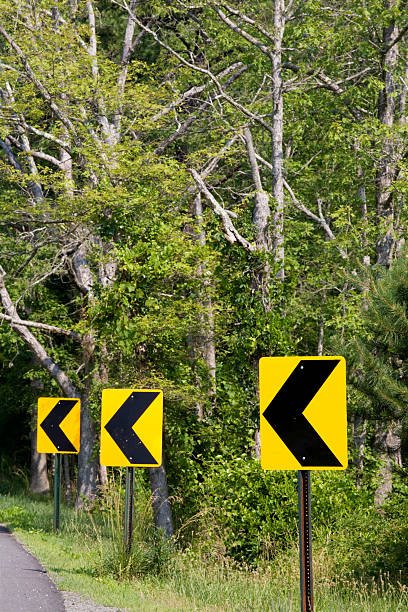left turn: (259, 357, 348, 471), (101, 390, 161, 466), (37, 398, 80, 454)
